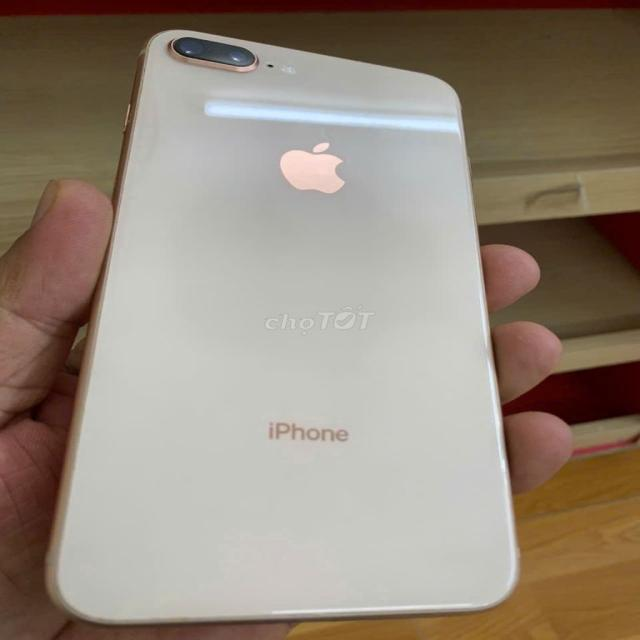gen_7_8: (30, 24, 543, 627)
